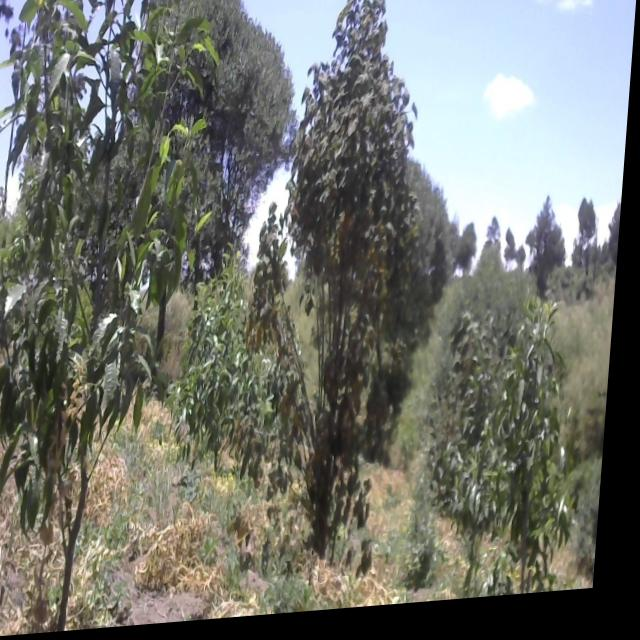Hass Avocado: (0, 0, 217, 639), (492, 304, 614, 606), (190, 254, 263, 475)
Salix alba: (87, 0, 305, 252), (433, 254, 547, 476), (379, 161, 465, 394)
cedrus: (524, 187, 579, 297), (578, 203, 604, 266)
other: (238, 0, 446, 602)
